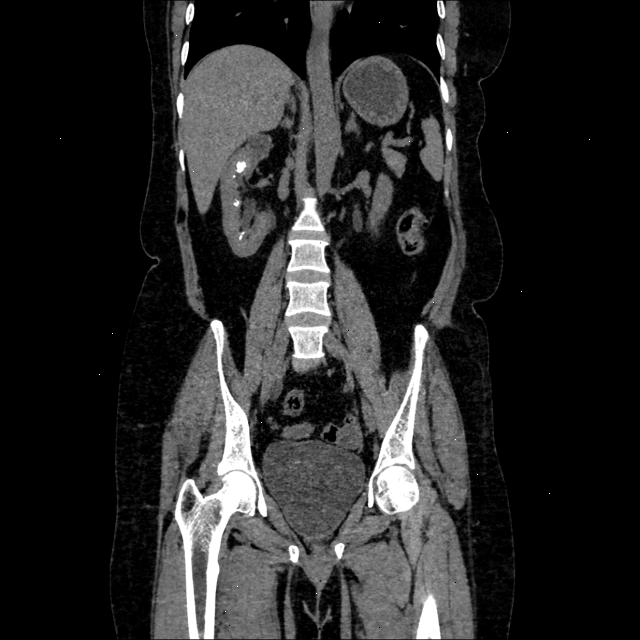kidneystone: (236, 161, 246, 173), (232, 199, 240, 207), (239, 232, 244, 238)
